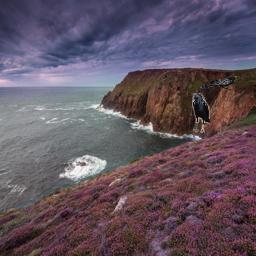Crow: (192, 93, 210, 133), (200, 76, 240, 90)
